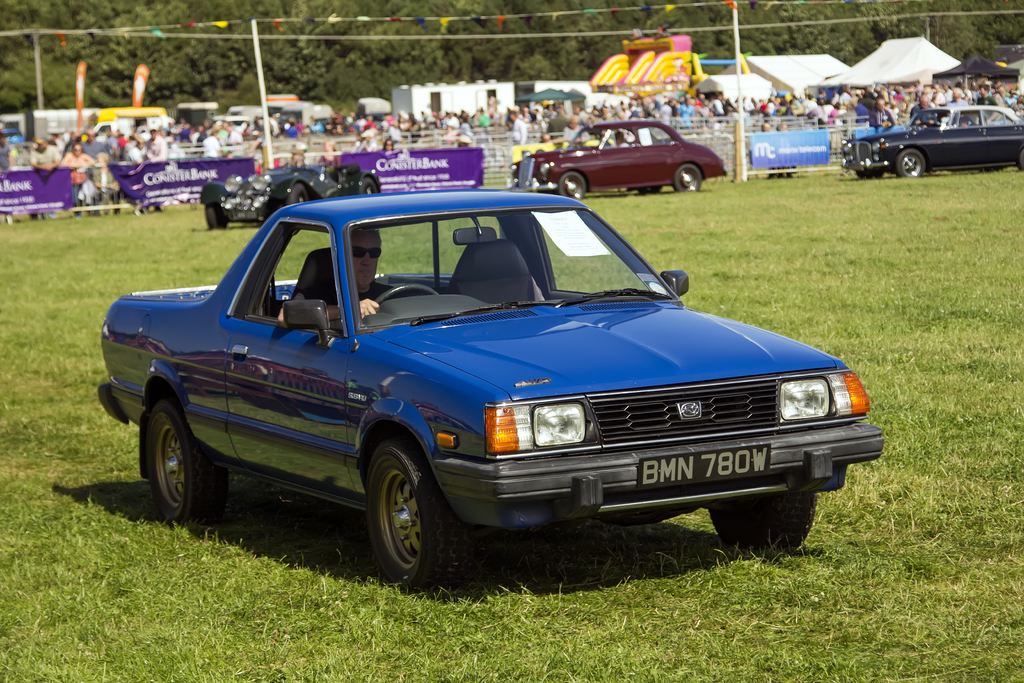Car: (90, 186, 887, 577), (507, 117, 728, 200), (839, 101, 1023, 179), (199, 160, 377, 230)
